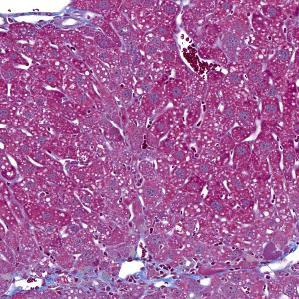fibrosis: (75, 251, 164, 291)
